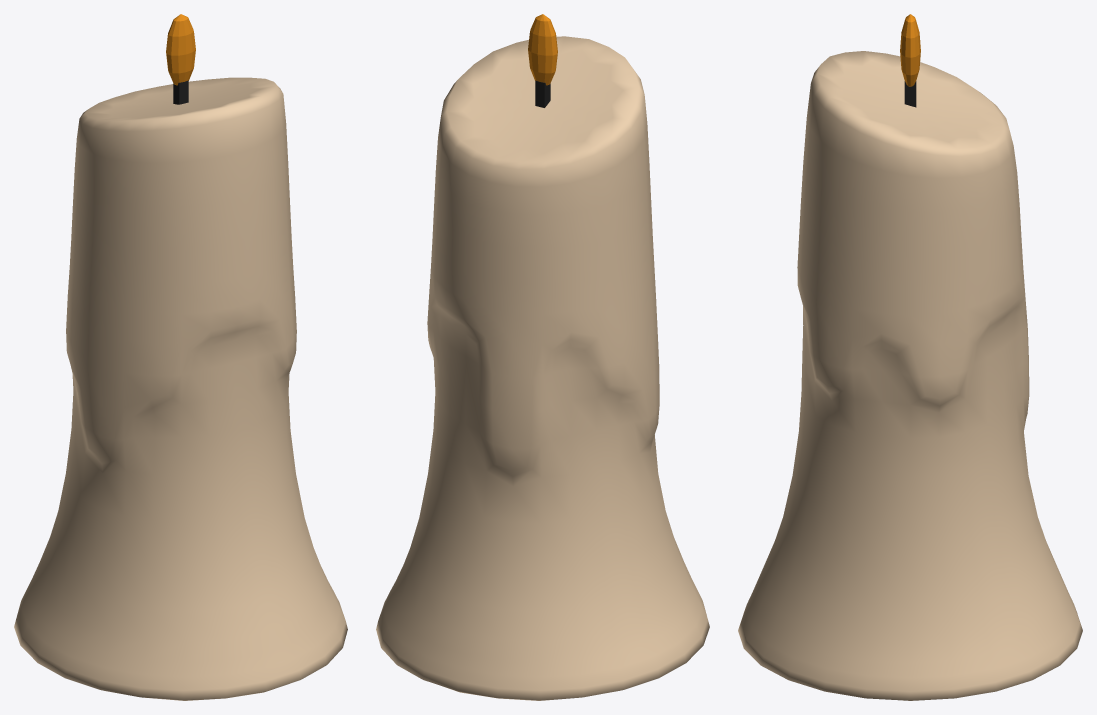
Rendered from vela.fbx.
3 renders of one model, left to right at view 1: azimuth 30°, elevation 25°; view 2: azimuth 150°, elevation 25°; view 3: azimuth 270°, elevation 25°, orthographic.
Parts seen in each view (by area): view 1: Cilindro, Esfera; view 2: Cilindro, Esfera; view 3: Cilindro, Esfera.
Boxes of the visible parts, x1,y1,x2,y2 form: Cilindro: (14, 77, 347, 700); Esfera: (166, 14, 195, 85); Cilindro: (376, 36, 709, 700); Esfera: (528, 14, 557, 85); Cilindro: (738, 51, 1082, 700); Esfera: (900, 14, 920, 86).
Bounding box in the file's own units: 19.86 × 40.96 × 20.63.
